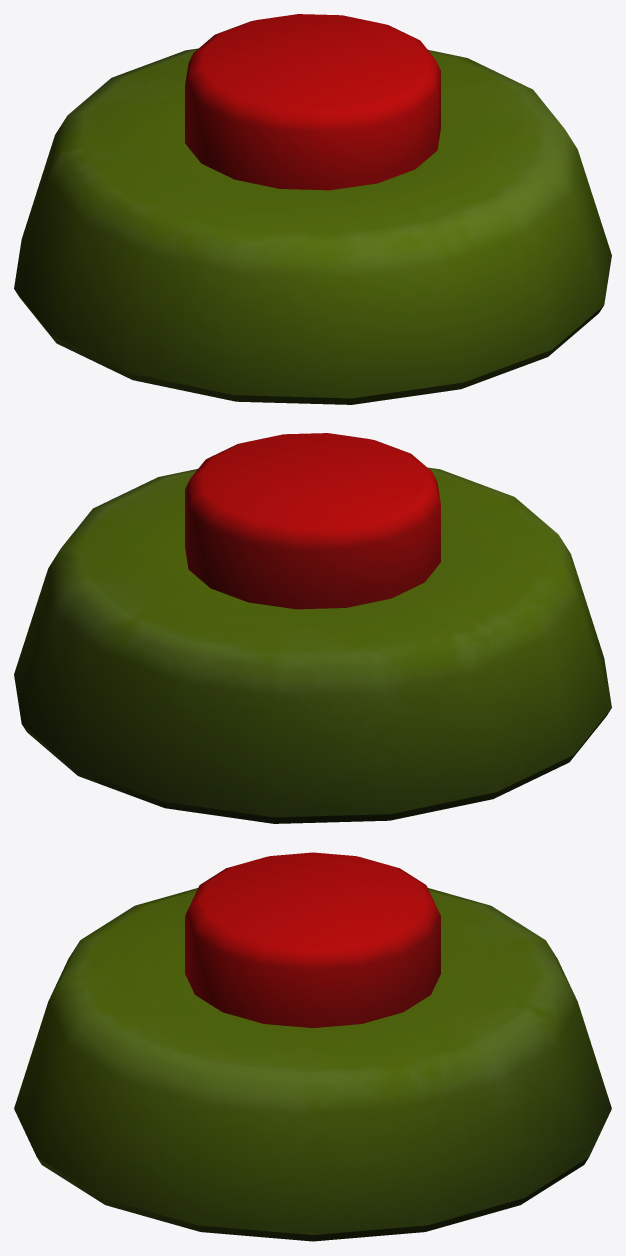
File: LandMine.FBX
The picture shows the model from 3 angles, top to bottom: view 1: azimuth 30°, elevation 25°; view 2: azimuth 150°, elevation 25°; view 3: azimuth 270°, elevation 25°; orthographic projection.
Visible parts, largest first — view 1: LandMine; view 2: LandMine; view 3: LandMine.
Boxes of the visible parts, x1,y1,x2,y2 form: LandMine: (14,14,611,404); LandMine: (14,433,611,823); LandMine: (14,852,611,1241).
Bounding box in the file's own units: 80.62 × 32.39 × 80.62.
